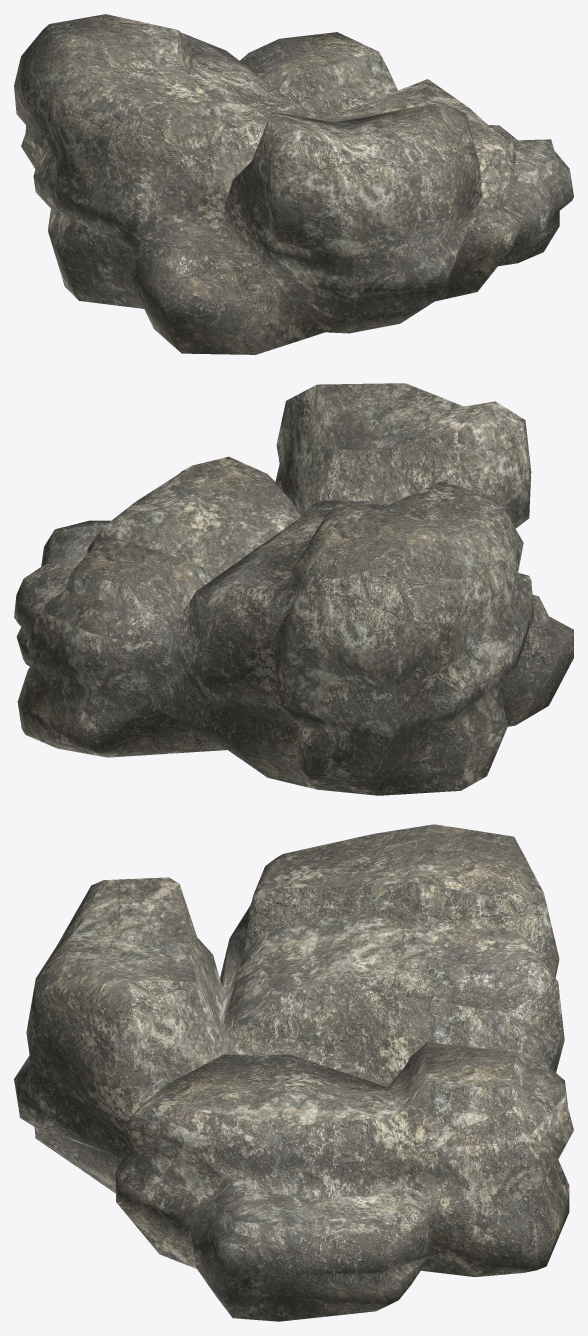
The model's file is ModularRock_01-transformed.glb.
3 views of the same model, one above another, from view 1: azimuth 30°, elevation 25°; view 2: azimuth 150°, elevation 25°; view 3: azimuth 270°, elevation 25° (orthographic). The views are drawn at different scales.
Visible parts, largest first — view 1: ModularRockOne300; view 2: ModularRockOne300; view 3: ModularRockOne300.
Part boxes in pixels (<box>): ModularRockOne300: <box>14,14,573,354</box>; ModularRockOne300: <box>14,383,573,795</box>; ModularRockOne300: <box>14,824,573,1321</box>.
Bounding box in the file's own units: 8.36 × 4.16 × 7.55.
1 material, 1 textured.
